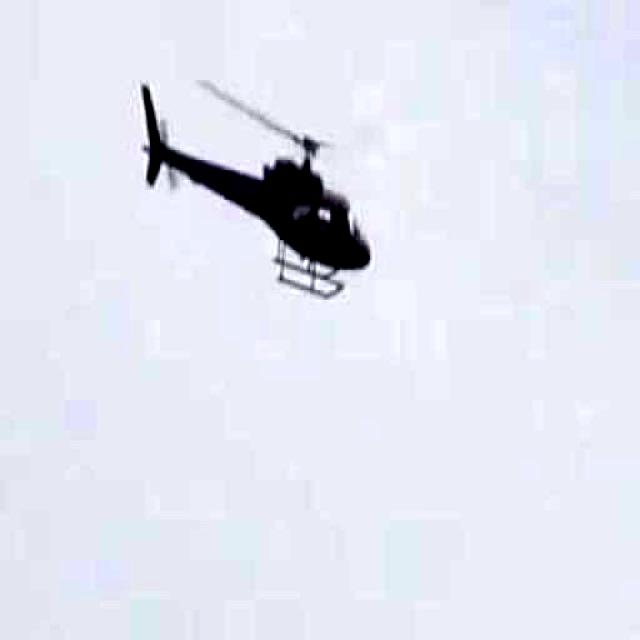drone: (138, 49, 375, 352)
